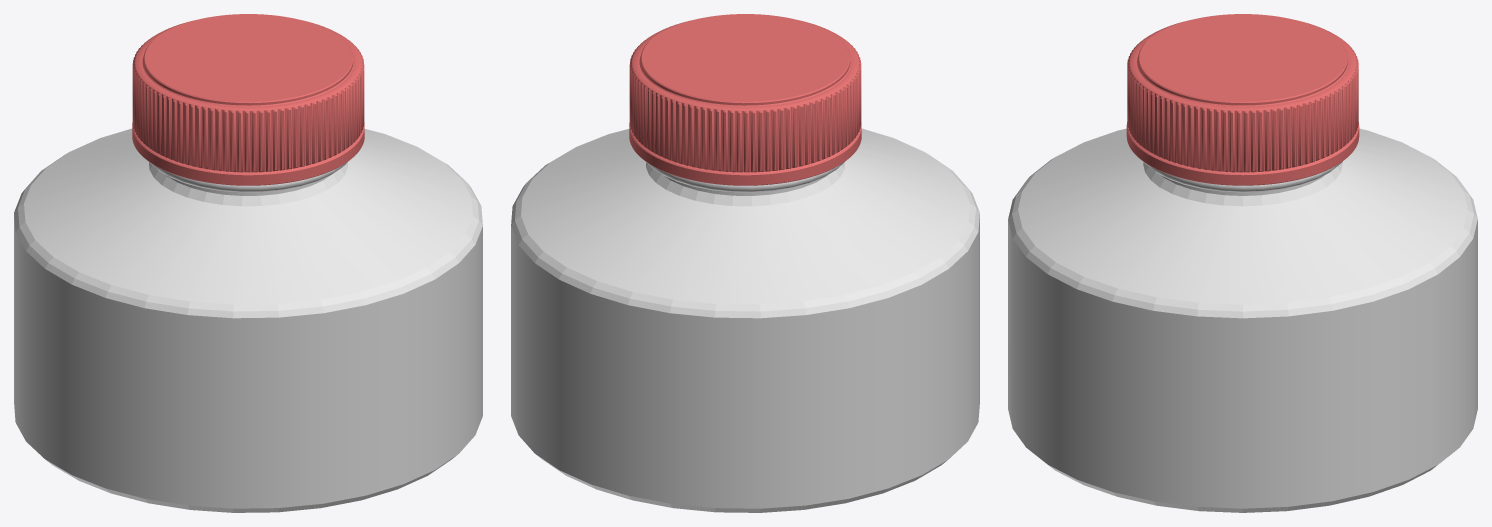
File: dyeRed_sam_v-1.gltf
3 renders of one model, left to right at view 1: azimuth 30°, elevation 25°; view 2: azimuth 150°, elevation 25°; view 3: azimuth 270°, elevation 25°, orthographic.
Visible parts, largest first — view 1: ColorantBase-Mat, ColorantBase, Bouchon; view 2: ColorantBase-Mat, ColorantBase, Bouchon; view 3: ColorantBase-Mat, ColorantBase, Bouchon.
Boxes of the visible parts, box(x1,y1,x2,y2) form: ColorantBase-Mat: box(14, 214, 482, 508); ColorantBase: box(14, 128, 482, 512); Bouchon: box(132, 14, 364, 185); ColorantBase-Mat: box(511, 214, 979, 508); ColorantBase: box(511, 128, 979, 512); Bouchon: box(629, 14, 861, 185); ColorantBase-Mat: box(1008, 219, 1477, 508); ColorantBase: box(1008, 128, 1477, 512); Bouchon: box(1126, 14, 1359, 185).
Size of the model in its own units: 5 by 4.22 by 5.
